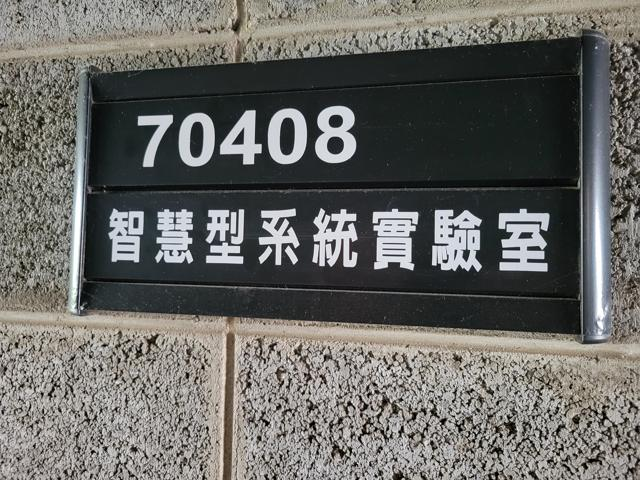doorplate: (61, 22, 626, 352)
